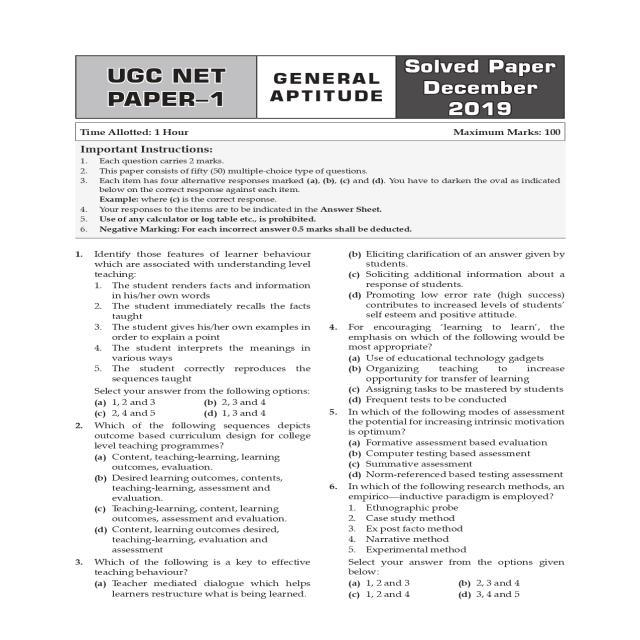Answer_Block: (74, 468, 327, 554), (326, 408, 580, 482), (326, 247, 580, 320), (326, 352, 580, 408), (74, 580, 327, 615), (326, 578, 580, 612), (74, 394, 327, 419)
Instruction: (71, 125, 578, 244)
Question_Answer_Block: (74, 247, 327, 419), (74, 421, 327, 554), (326, 482, 580, 612), (326, 320, 580, 408), (326, 408, 580, 482), (326, 247, 580, 320), (74, 556, 327, 615)
Question_Block: (74, 247, 327, 399), (326, 482, 580, 578), (74, 422, 327, 472), (326, 320, 580, 353), (326, 408, 580, 438), (74, 556, 327, 576)
Question_Paper_Area: (71, 125, 578, 624)
